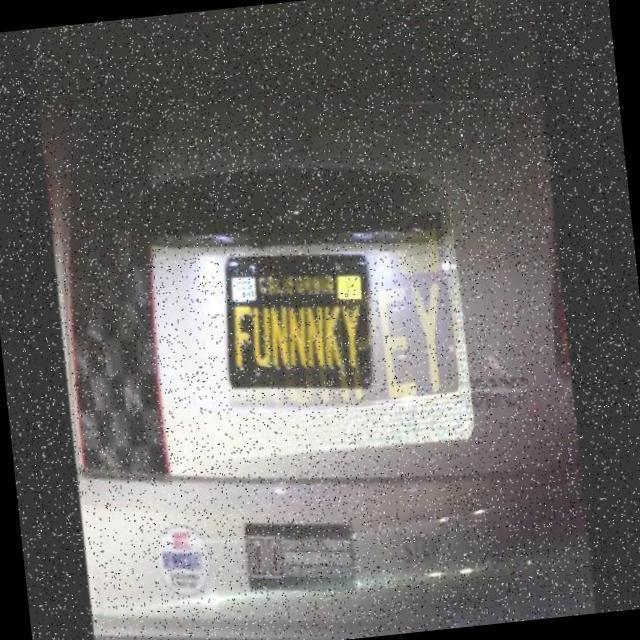license_plate: (210, 221, 398, 424)
